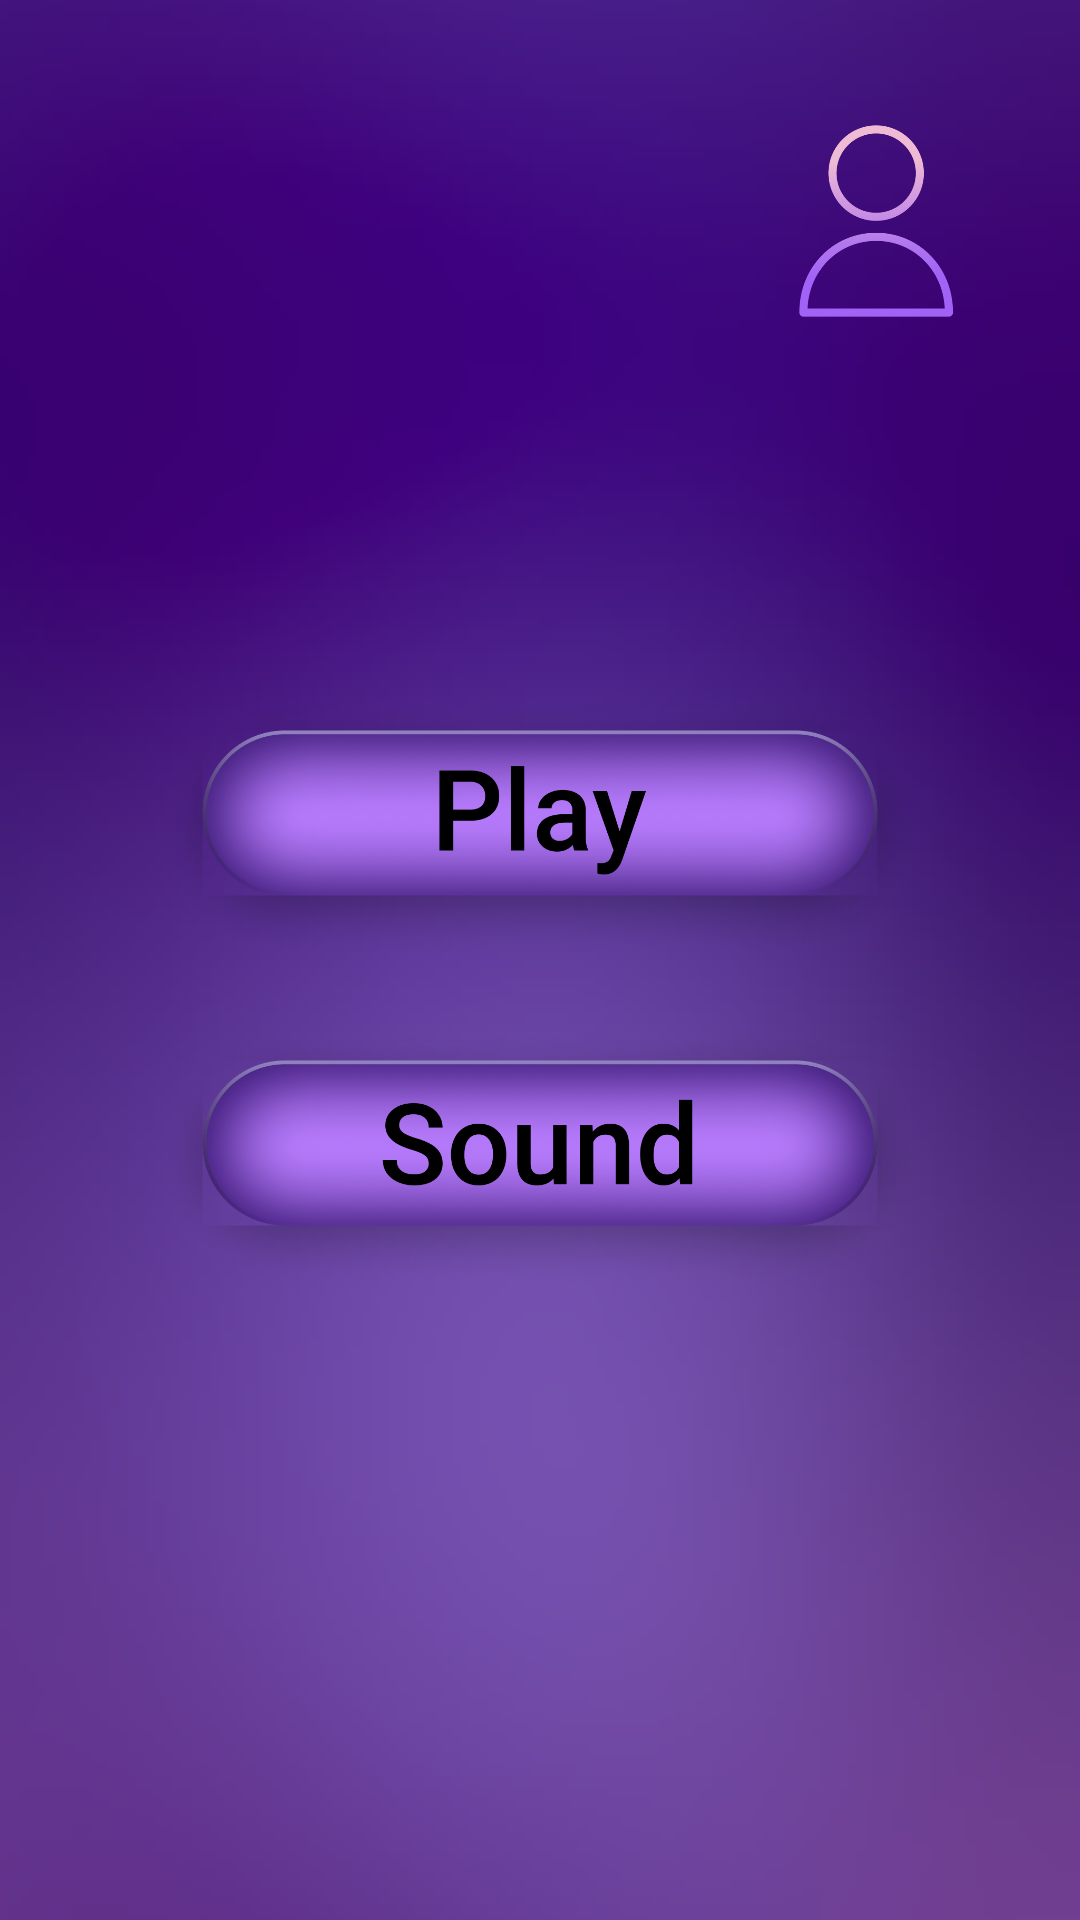

Named icons in this screenshot (1080 x 1920) and their centers, (x=x, y=y):
profile: (x=876, y=221)
